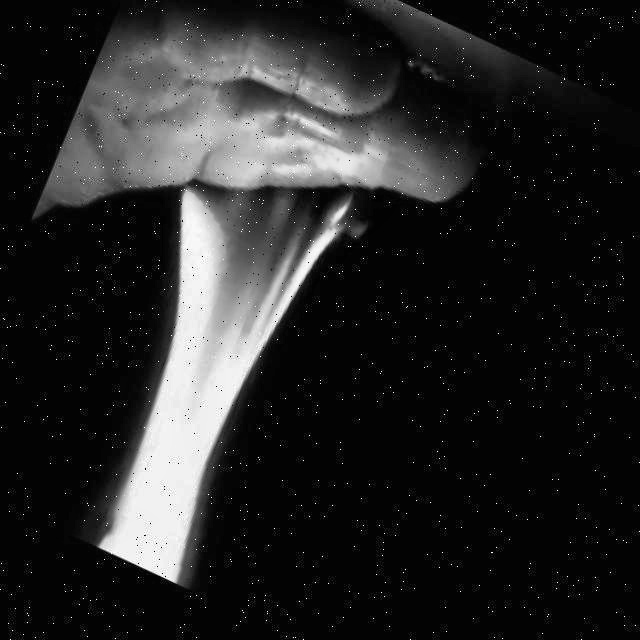Fire: (7, 123, 394, 602)
